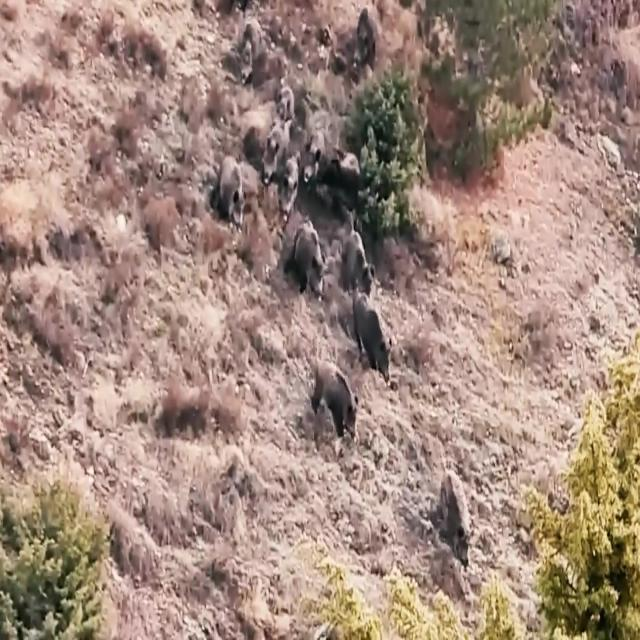pig: (291, 346, 371, 456), (340, 285, 397, 385), (292, 214, 335, 322), (440, 472, 478, 584), (211, 140, 251, 242), (333, 229, 376, 300), (348, 5, 392, 74), (256, 122, 298, 186), (228, 12, 268, 79)
